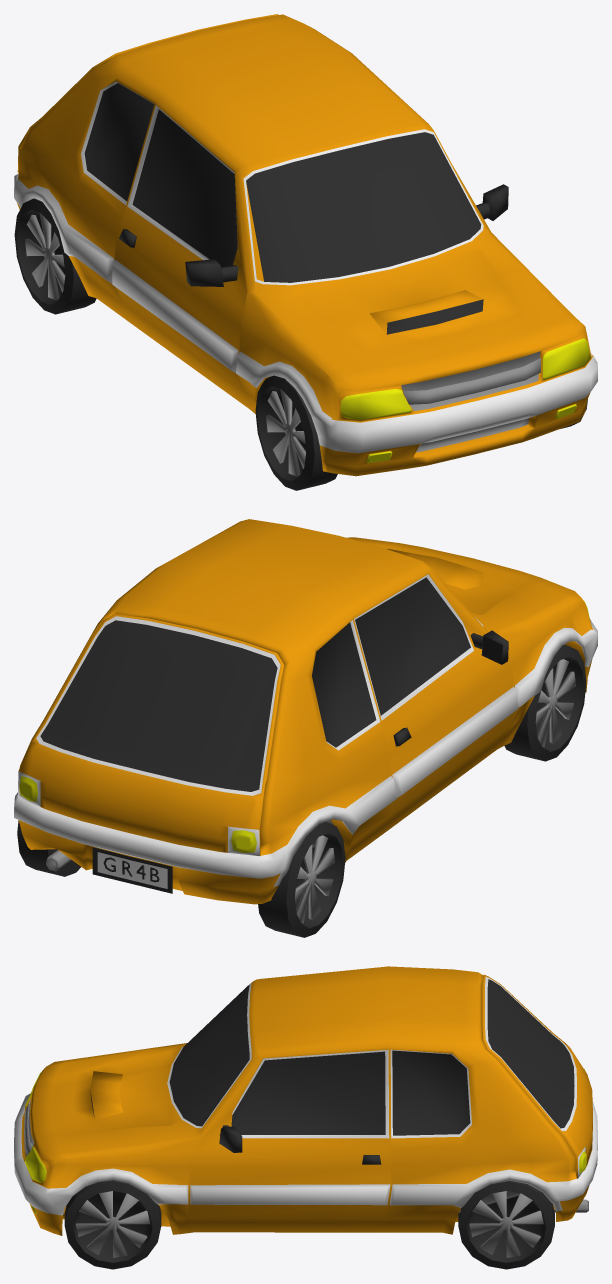
The model's file is Mini_carLast.fbx.
3 views of the same model, one above another, from view 1: azimuth 30°, elevation 25°; view 2: azimuth 150°, elevation 25°; view 3: azimuth 270°, elevation 25° (orthographic). The views are drawn at different scales.
Parts seen in each view (by area): view 1: Body, FLW.003, FLW.002, Body.001; view 2: Body, Body.001, FLW.002, FLW.003, Body.002, FLW.001; view 3: Body, Body.001, FLW, FLW.001.
Boxes of the visible parts, left/top/right/bottom form: Body: left=14, top=14, right=597, bottom=476; FLW.003: left=255, top=375, right=337, bottom=490; FLW.002: left=14, top=198, right=96, bottom=314; Body.001: left=17, top=14, right=278, bottom=172; Body: left=14, top=519, right=597, bottom=904; Body.001: left=17, top=613, right=284, bottom=856; FLW.002: left=258, top=822, right=345, bottom=937; FLW.003: left=504, top=645, right=586, bottom=761; Body.002: left=92, top=847, right=172, bottom=893; FLW.001: left=17, top=820, right=80, bottom=876; Body: left=14, top=966, right=597, bottom=1235; Body.001: left=482, top=974, right=592, bottom=1178; FLW: left=64, top=1180, right=161, bottom=1269; FLW.001: left=458, top=1181, right=554, bottom=1269.
Bounding box in the file's own units: 243 × 193 × 470.
